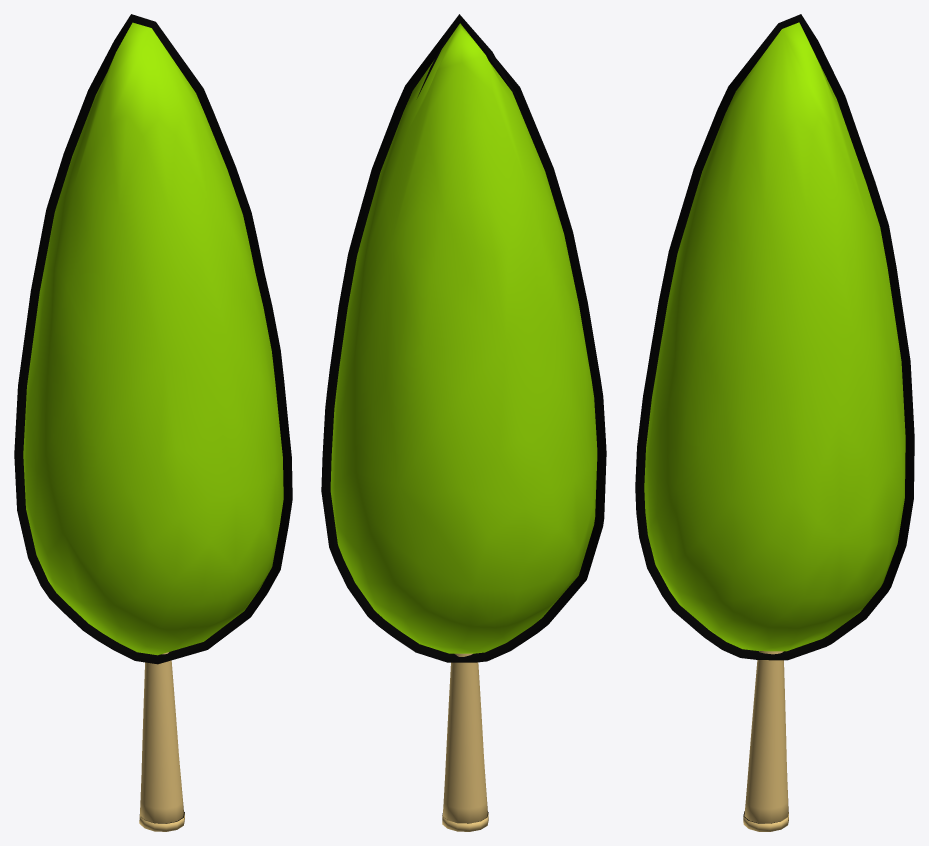
File: Height Tree.fbx
3 renders of one model, left to right at view 1: azimuth 30°, elevation 25°; view 2: azimuth 150°, elevation 25°; view 3: azimuth 270°, elevation 25°, orthographic. The views are drawn at different scales.
Visible parts, largest first — view 1: Tree_1_1; view 2: Tree_1_1; view 3: Tree_1_1.
Part boxes in pixels (bbox=[...]): Tree_1_1: bbox=[14, 14, 292, 831]; Tree_1_1: bbox=[321, 14, 606, 831]; Tree_1_1: bbox=[635, 14, 914, 831].
Size of the model in its own units: 28.91 by 91.32 by 28.81.
